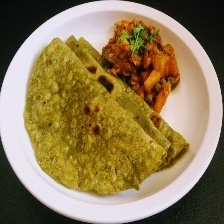roti: (23, 112, 187, 195)
